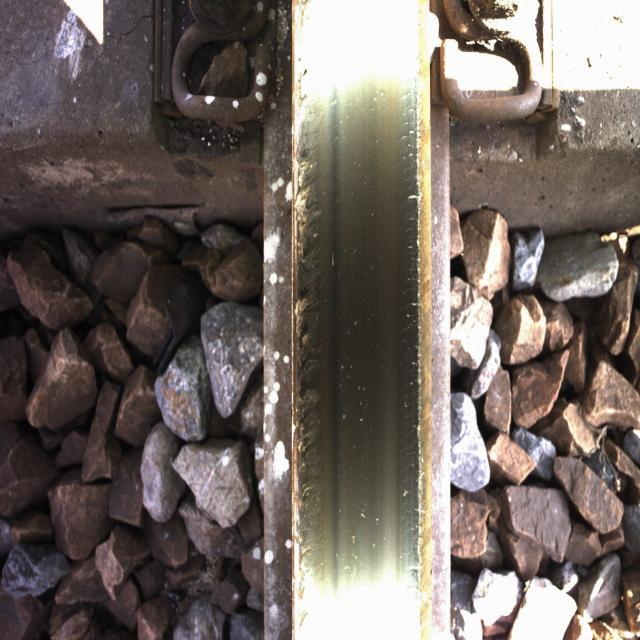scar: (290, 18, 354, 570)
